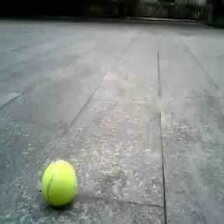tennis: (44, 161, 77, 205)
